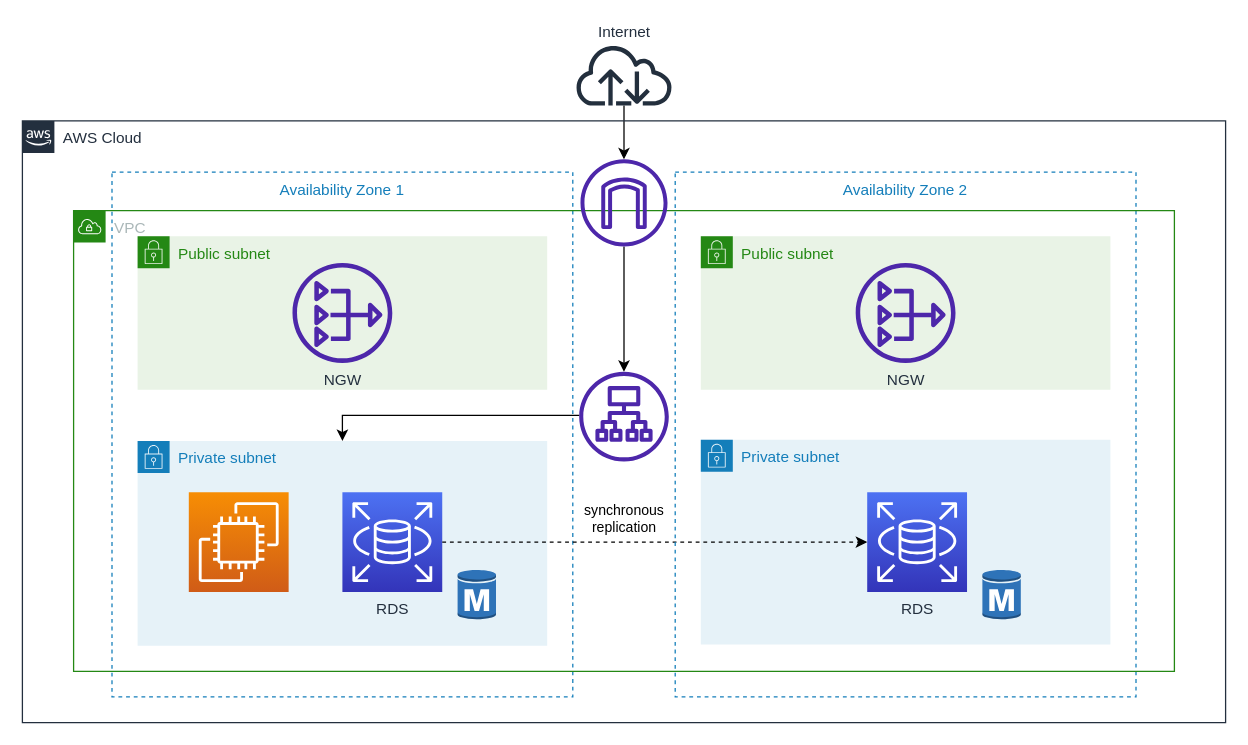
Image size: 1248x745. Some labels were removed from this diagram. The centre of each missing label's shape, as x and y in pixels:
ALB: (x=623, y=416)
EC2 - GLPI: (x=238, y=541)
IGW: (x=623, y=202)
